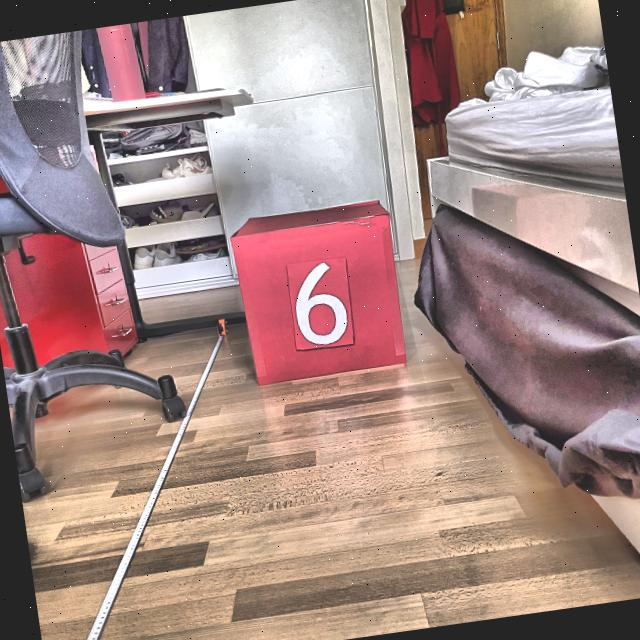red box: (228, 197, 409, 389)
six: (290, 260, 352, 350)
